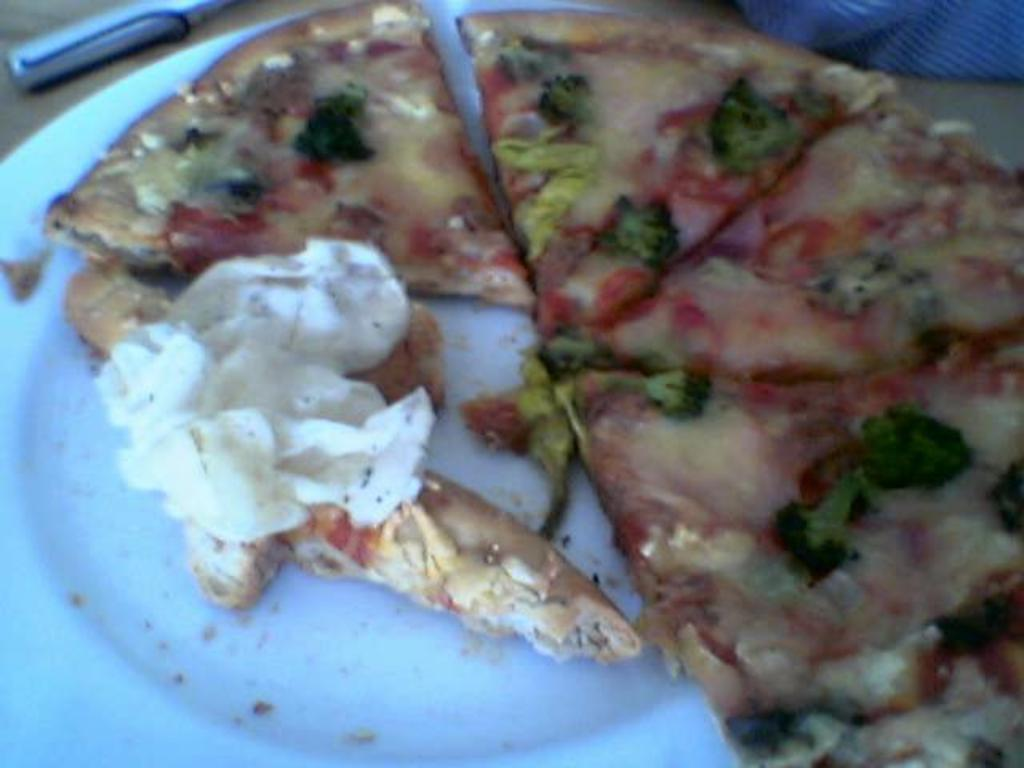Pizza: (19, 0, 1019, 721)
